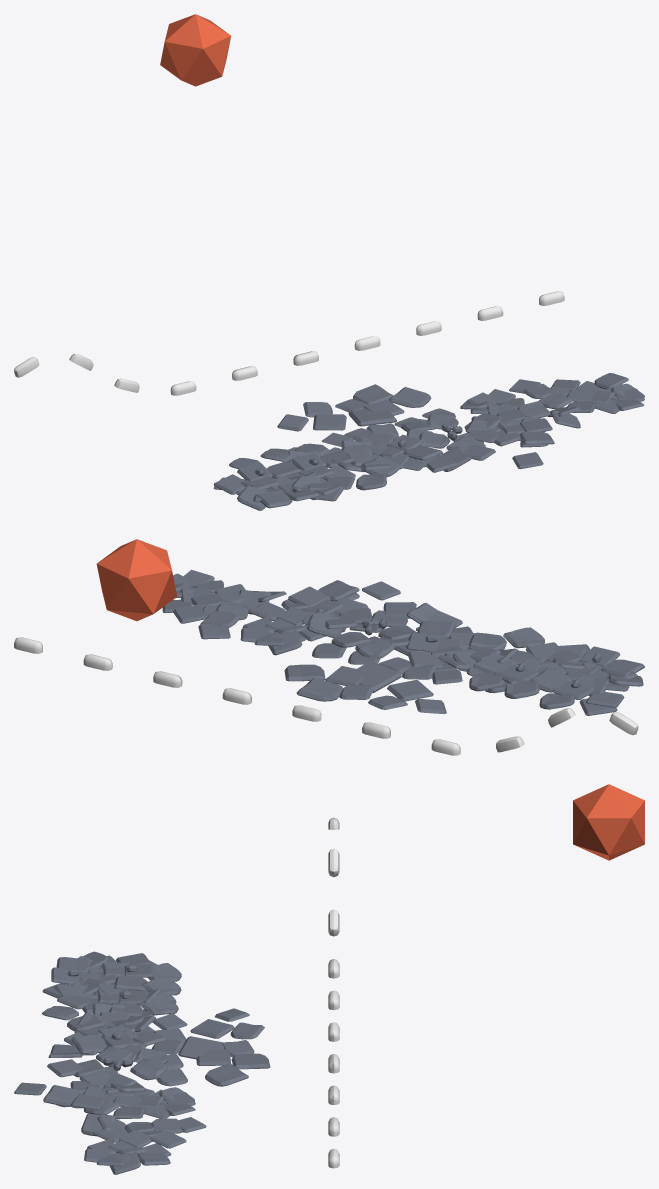
File: road.gltf
3 renders of one model, top to bottom at view 1: azimuth 30°, elevation 25°; view 2: azimuth 150°, elevation 25°; view 3: azimuth 270°, elevation 25°, orthographic. The views are drawn at different scales.
Parts seen in each view (by area): view 1: StoneTile1, StoneTiles3, StoneTiles2, Leaf3_convex_colider, LaneMarking; view 2: StoneTile1, StoneTiles3, StoneTiles2, Leaf3_convex_colider, LaneMarking, LaneMarking002, LaneMarking001; view 3: StoneTile1, StoneTiles3, StoneTiles2, Leaf3_convex_colider, LaneMarking.
Part boxes in pixels (box(x1,y1,x2,y2)): StoneTile1: box(213, 413, 554, 510); StoneTiles3: box(320, 373, 644, 469); StoneTiles2: box(277, 384, 455, 446); Leaf3_convex_colider: box(160, 14, 230, 86); LaneMarking: box(170, 291, 564, 395); StoneTile1: box(288, 580, 644, 715); StoneTiles3: box(162, 569, 485, 676); StoneTiles2: box(284, 643, 462, 714); Leaf3_convex_colider: box(96, 539, 177, 621); LaneMarking: box(14, 637, 460, 755); LaneMarking002: box(609, 712, 638, 735); LaneMarking001: box(496, 736, 524, 752); StoneTile1: box(42, 951, 181, 1109); StoneTiles3: box(14, 1009, 206, 1174); StoneTiles2: box(151, 1008, 270, 1086); Leaf3_convex_colider: box(573, 784, 644, 860); LaneMarking: box(328, 959, 339, 1168).
Size of what is drawn, in the model's own units: 3.78 by 1.75 by 3.56.
